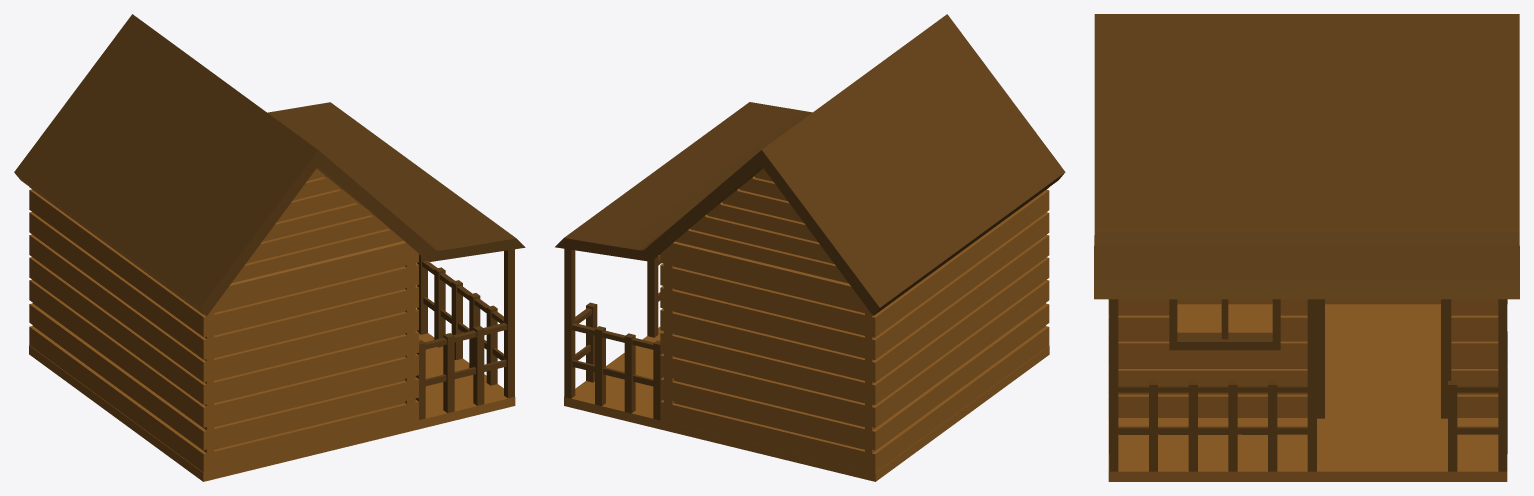
File: WoodenStartingCabin 1.fbx
3 renders of one model, left to right at view 1: azimuth 30°, elevation 25°; view 2: azimuth 150°, elevation 25°; view 3: azimuth 270°, elevation 25°, orthographic. The views are drawn at different scales.
Parts seen in each view (by area): view 1: WoodenCabin.001; view 2: WoodenCabin.001; view 3: WoodenCabin.001.
Part boxes in pixels (x1=…): WoodenCabin.001: x1=14, y1=14, x2=525, y2=481; WoodenCabin.001: x1=555, y1=14, x2=1065, y2=481; WoodenCabin.001: x1=1094, y1=14, x2=1519, y2=481.
Size of the model in its own units: 378 by 343 by 374.
